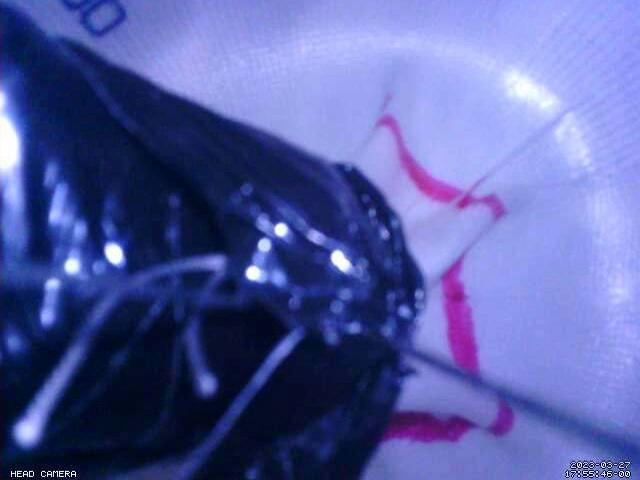red-circle: (375, 114, 517, 444)
